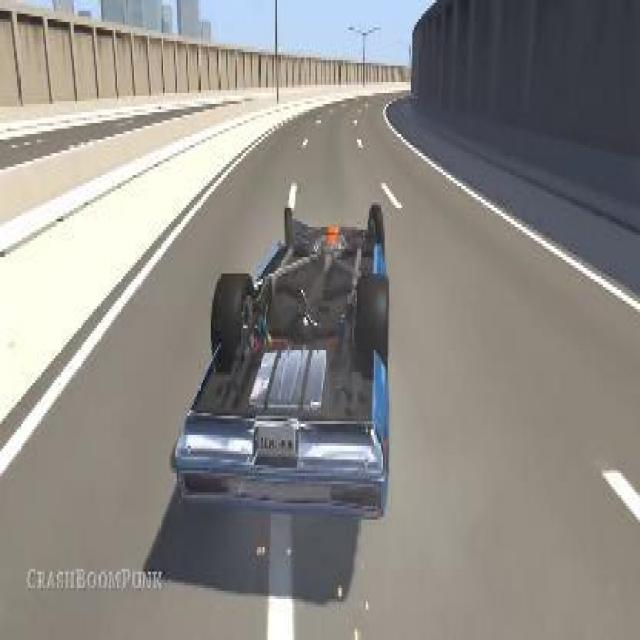accident: (160, 183, 395, 528)
